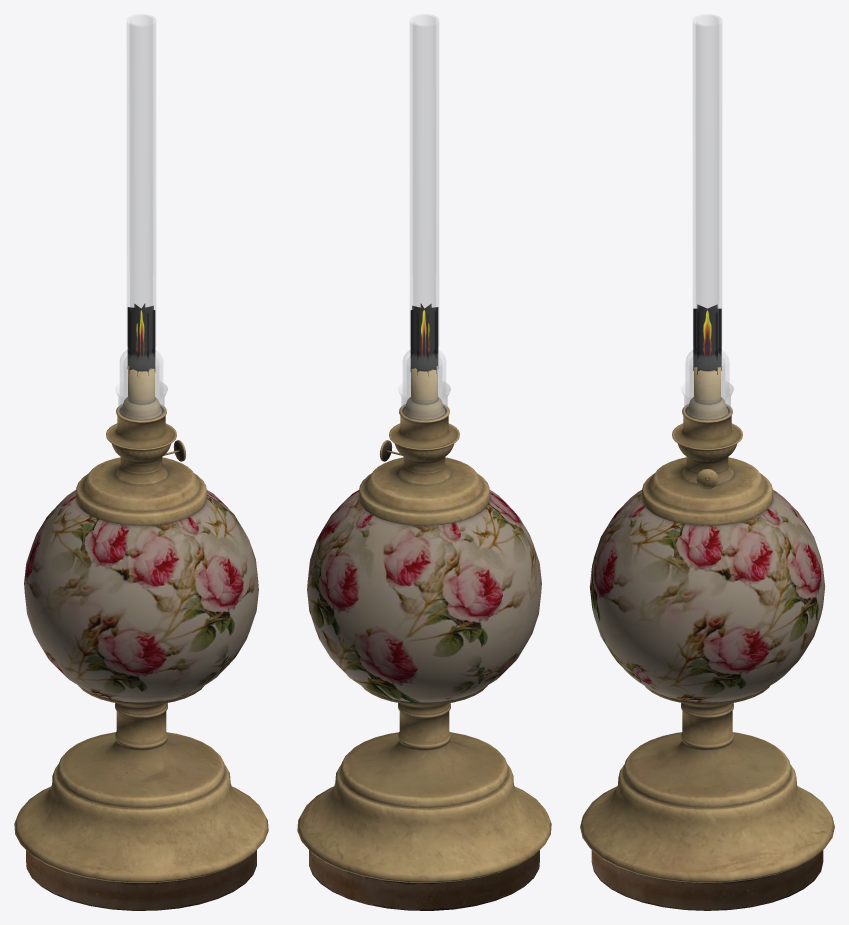
The model's file is vintage_oil_lamp.glb.
3 views of the same model, side by side, from view 1: azimuth 30°, elevation 25°; view 2: azimuth 150°, elevation 25°; view 3: azimuth 270°, elevation 25° (orthographic).
Parts seen in each view (by area): view 1: vintage_oil_lamp, vintage_oil_lamp_glass, vintage_oil_lamp_flame; view 2: vintage_oil_lamp, vintage_oil_lamp_glass, vintage_oil_lamp_flame; view 3: vintage_oil_lamp, vintage_oil_lamp_glass, vintage_oil_lamp_flame.
Boxes of the visible parts, x1,y1,x2,y2 form: vintage_oil_lamp: (14, 366, 268, 910); vintage_oil_lamp_glass: (115, 14, 167, 420); vintage_oil_lamp_flame: (127, 303, 155, 376); vintage_oil_lamp: (297, 366, 551, 910); vintage_oil_lamp_glass: (398, 14, 450, 420); vintage_oil_lamp_flame: (410, 303, 438, 376); vintage_oil_lamp: (580, 367, 834, 910); vintage_oil_lamp_glass: (681, 14, 733, 420); vintage_oil_lamp_flame: (693, 304, 721, 374).
Size of the model in its own units: 0.22 by 0.8016 by 0.22.
Materials: 3 (2 with a texture image).
